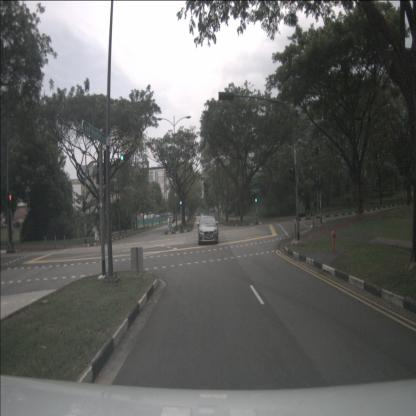vehicle-car: (198, 215, 219, 245), (168, 216, 174, 223)
